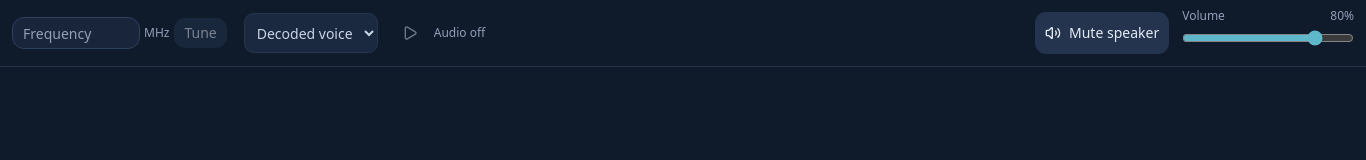
tunes an entered frequency, explains silence and reports a receive-window error
This screenshot has width=1366, height=160.
Type "452.675" into the field named "Frequency (MHz)". click: (76, 33)
box: x1=12 y1=17 x2=140 y2=49
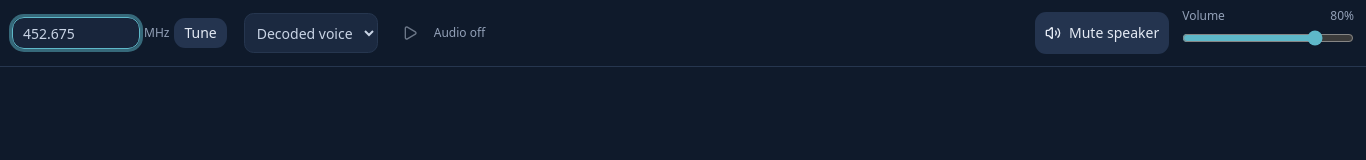
Click the button "Tune". click: (201, 33)
box: x1=173 y1=17 x2=228 y2=49
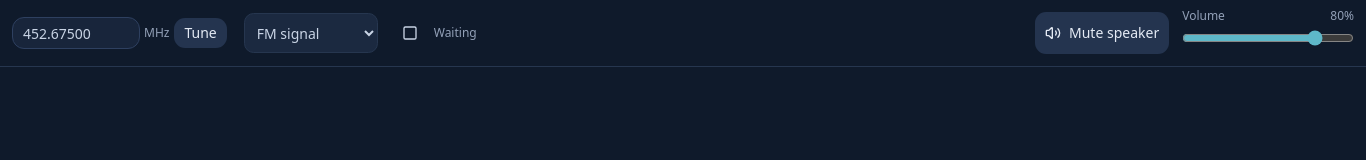
Expected: the message reads "Waiting", x1=434 y1=24 x2=477 y2=41
Expected: the text "Waiting" is shown, x1=434 y1=25 x2=477 y2=41
Expected: the dropdown named "Audio mode" shows "FM signal", x1=244 y1=13 x2=378 y2=53
Click the button "Mute speaker". click: (1102, 33)
box: x1=1034 y1=11 x2=1170 y2=55
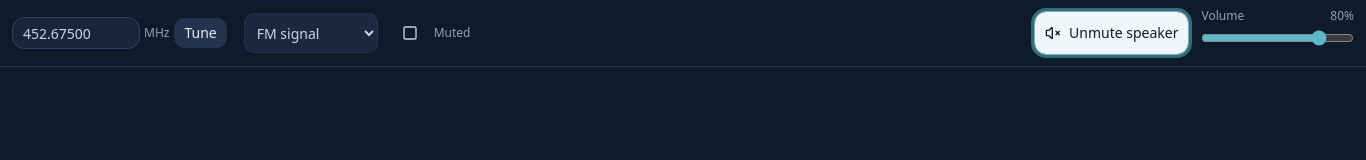
Expected: the field named "Frequency (MHz)" holds "452.67500"
Expected: the message reads "Muted", x1=434 y1=24 x2=470 y2=41
Replace the text in the field named "Frequency (MHz)" with "471". click: (76, 33)
box: x1=12 y1=17 x2=140 y2=49
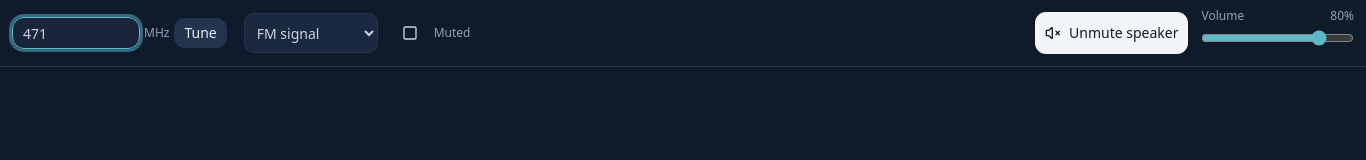
Click the button "Tune". click: (201, 33)
box: x1=173 y1=17 x2=228 y2=49
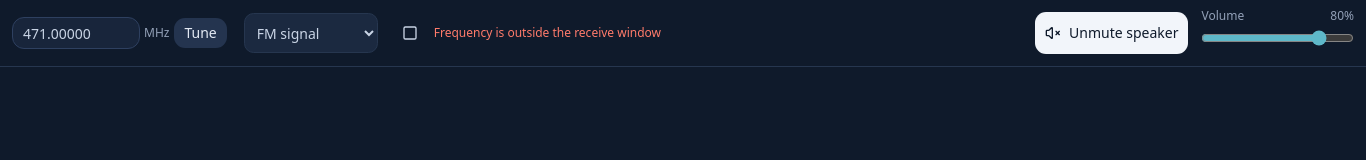
Expected: the message reads "Frequency is outside the receive window", x1=434 y1=24 x2=661 y2=41
Expected: the field named "Frequency (MHz)" holds "471.00000", x1=12 y1=17 x2=140 y2=49
Click the button named "Stop listening". click: (410, 33)
box: x1=394 y1=17 x2=426 y2=49
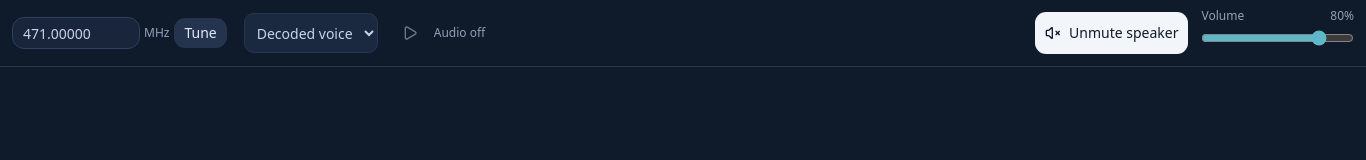
Expected: the message reads "Audio off", x1=434 y1=24 x2=485 y2=41
